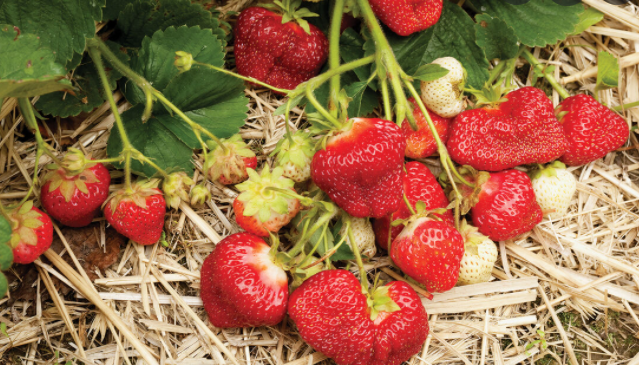ripe: (287, 267, 429, 363), (444, 84, 568, 174), (314, 116, 407, 219), (199, 230, 291, 330), (232, 4, 326, 95), (376, 158, 450, 253), (552, 85, 630, 172), (462, 165, 544, 243), (388, 216, 462, 293), (38, 154, 109, 227), (232, 173, 303, 233), (103, 180, 167, 246), (394, 96, 453, 161), (3, 203, 53, 265), (366, 0, 447, 37), (206, 140, 257, 185)
unripe: (447, 218, 498, 287), (421, 55, 469, 119), (331, 208, 380, 263), (274, 131, 317, 182)
